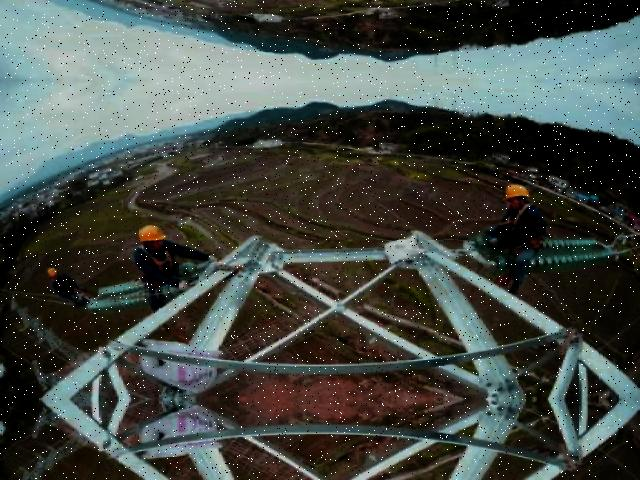Helmet: (137, 222, 171, 248), (501, 181, 535, 205), (44, 262, 64, 280)
